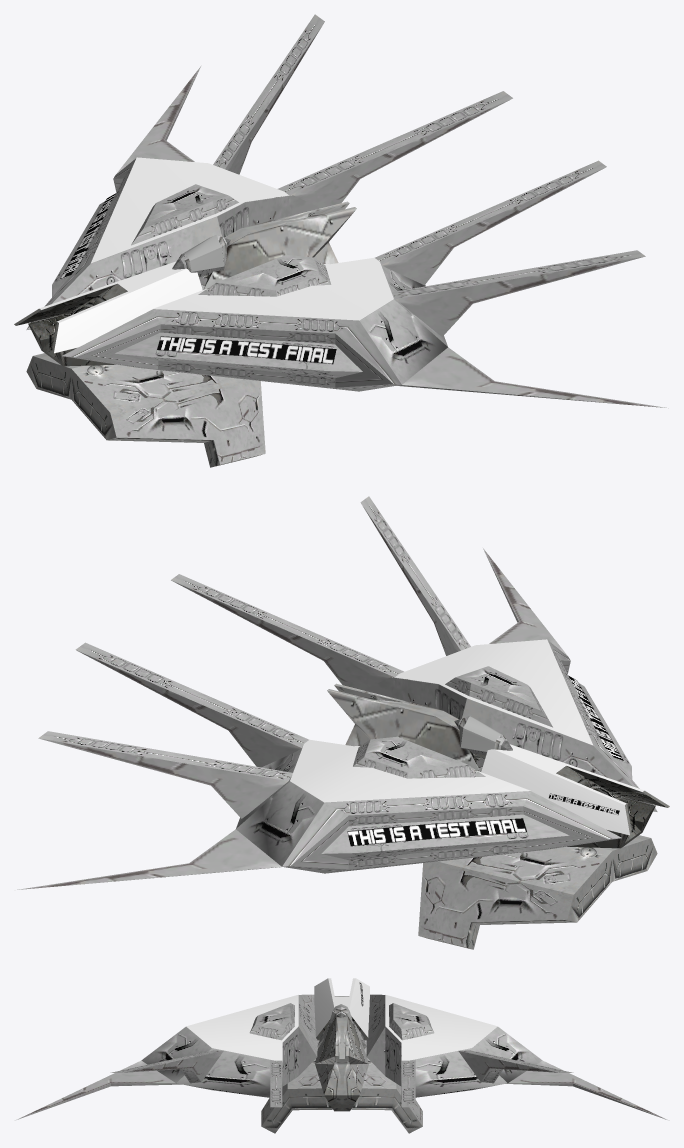
The model's file is OriginalPW.obj.
The picture shows the model from 3 angles, top to bottom: view 1: azimuth 30°, elevation 25°; view 2: azimuth 150°, elevation 25°; view 3: azimuth 270°, elevation 25°; orthographic projection. The views are drawn at different scales.
Parts seen in each view (by area): view 1: MESH020.001, SPP23_01SHAPE0, SPH230, DECAL010.007, DECAL020.004, DECAL030.004, NAMEDECAL0.008, COCKPIT0.001; view 2: MESH020.001, SPP23_01SHAPE0, SPH230, DECAL020.004, DECAL010.007, DECAL030.004, NAMEDECAL0.008, COCKPIT0.001; view 3: MESH020.001, SPP23_01SHAPE0, SPH230, DECAL010.007, DECAL020.004, DECAL030.004, COCKPIT0.001.
Part boxes in pixels (x1=…): MESH020.001: x1=26, y1=14, x2=668, y2=408; SPP23_01SHAPE0: x1=26, y1=353, x2=265, y2=467; SPH230: x1=14, y1=201, x2=356, y2=366; DECAL010.007: x1=91, y1=157, x2=291, y2=263; DECAL020.004: x1=153, y1=257, x2=393, y2=320; DECAL030.004: x1=15, y1=261, x2=202, y2=353; NAMEDECAL0.008: x1=60, y1=193, x2=336, y2=364; COCKPIT0.001: x1=172, y1=235, x2=230, y2=276; MESH020.001: x1=17, y1=496, x2=657, y2=889; SPP23_01SHAPE0: x1=418, y1=835, x2=657, y2=949; SPH230: x1=327, y1=683, x2=669, y2=848; DECAL020.004: x1=392, y1=639, x2=592, y2=745; DECAL010.007: x1=290, y1=739, x2=530, y2=802; DECAL030.004: x1=481, y1=744, x2=668, y2=835; NAMEDECAL0.008: x1=347, y1=675, x2=623, y2=846; COCKPIT0.001: x1=454, y1=716, x2=512, y2=755; MESH020.001: x1=15, y1=994, x2=668, y2=1120; SPP23_01SHAPE0: x1=261, y1=1040, x2=422, y2=1133; SPH230: x1=315, y1=996, x2=368, y2=1111; DECAL010.007: x1=385, y1=994, x2=497, y2=1060; DECAL020.004: x1=186, y1=994, x2=298, y2=1061; DECAL030.004: x1=314, y1=978, x2=369, y2=1037; COCKPIT0.001: x1=329, y1=1004, x2=353, y2=1026.
Size of the model in its own units: 91.49 by 36.83 by 142.
11 materials, 11 textured.
